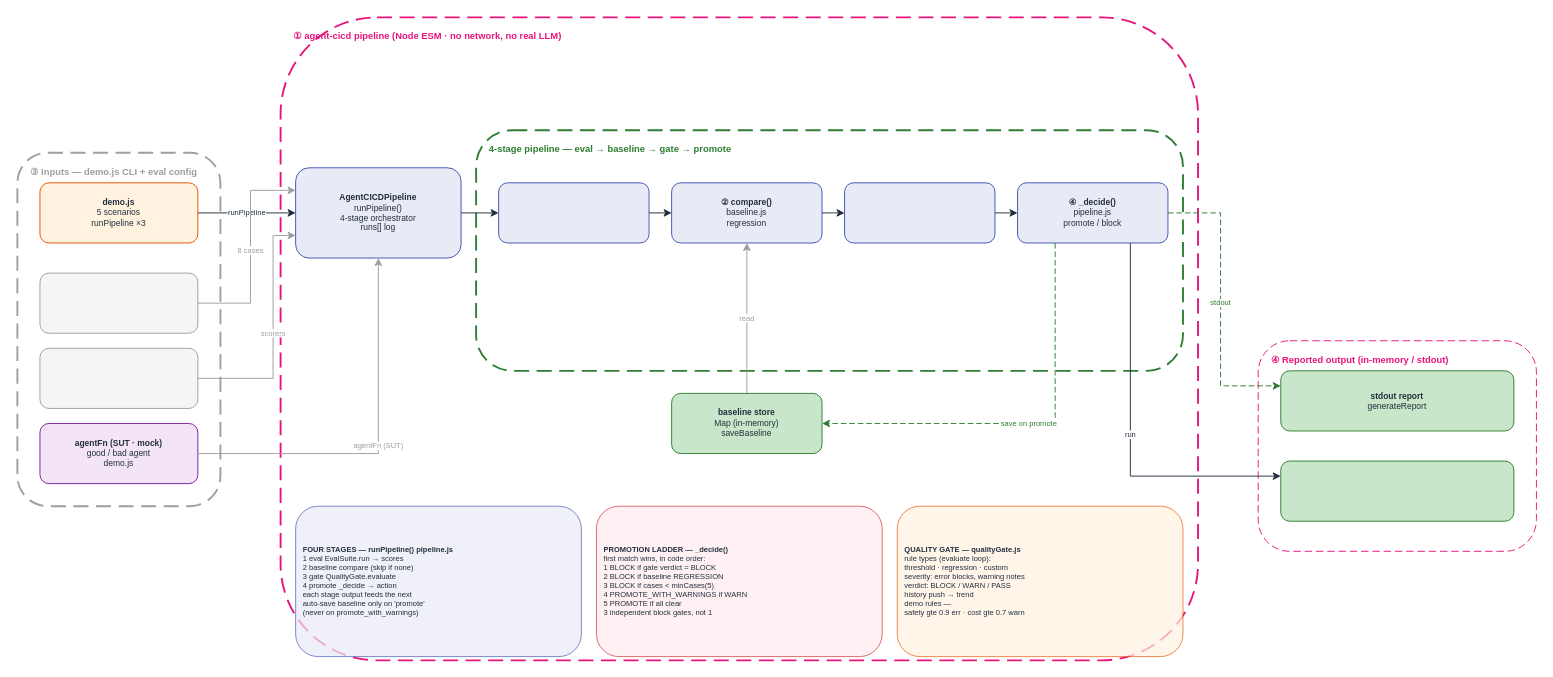
Some shapes in this 1553 by 677 pixel diagram are drawn without their labels. The shapes that lost their labels are listed below. From the top down, each one's centre as x and y in pixels, then its label:
At point 573,212: "① EvalSuite.run evalSuite.js agentFn score dims".
At point 919,212: "③ QualityGate evaluate() rules → verdict".
At point 118,302: "8 eval cases tags + weights demo.js".
At point 118,377: "3 scorer fns faith / safety / cost demo.js".
At point 1397,490: "run history this.runs getRunHistory".
